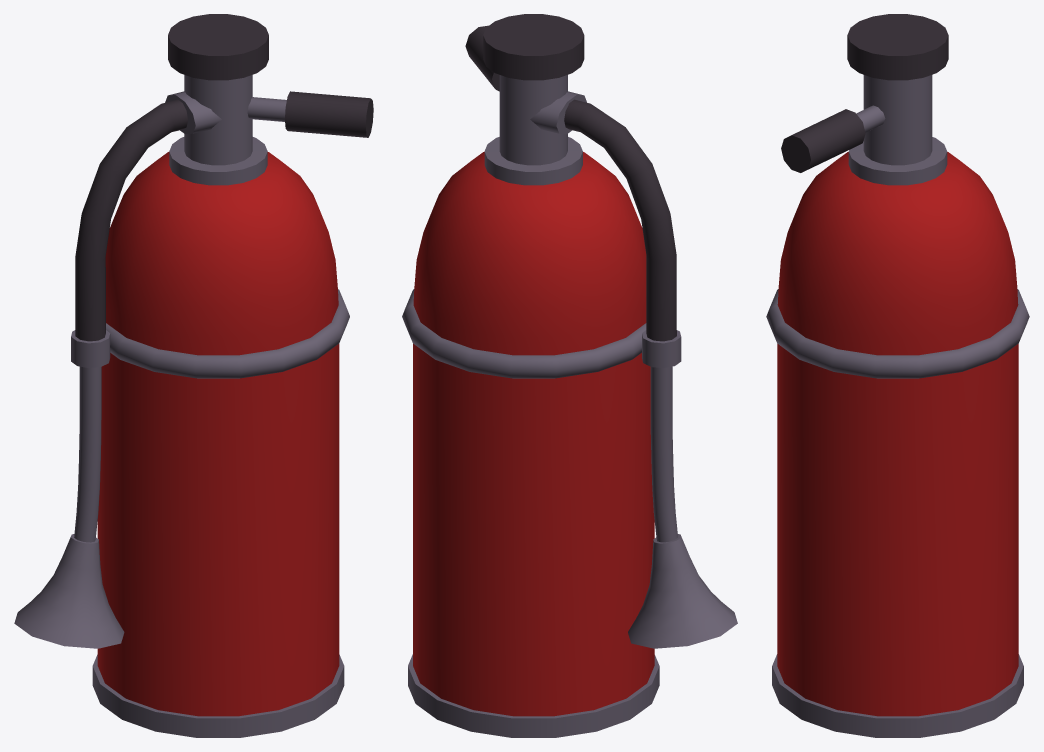
Rendered from OT_141_red_fire_extinguisher.glb.
The picture shows the model from 3 angles, left to right: view 1: azimuth 30°, elevation 25°; view 2: azimuth 150°, elevation 25°; view 3: azimuth 270°, elevation 25°; orthographic projection.
Visible parts, largest first — view 1: fire_extinguisher, accesories; view 2: fire_extinguisher, accesories; view 3: fire_extinguisher, accesories.
Part boxes in pixels (box(x1,y1,x2,y2)): fire_extinguisher: box(92, 14, 344, 737); accesories: box(14, 91, 373, 648); fire_extinguisher: box(408, 14, 659, 737); accesories: box(402, 25, 737, 648); fire_extinguisher: box(772, 14, 1023, 737); accesories: box(766, 105, 1029, 378).
Bounding box in the file's own units: 0.5083 × 1.03 × 0.3769.
